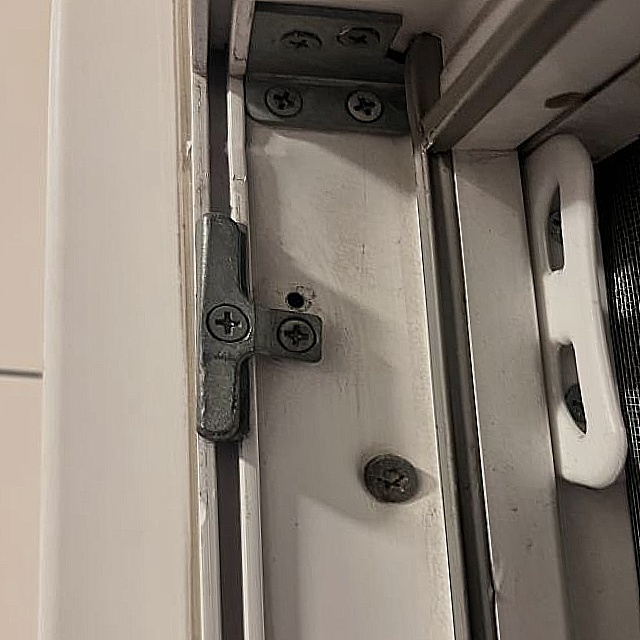phillips: (205, 303, 252, 345), (276, 317, 317, 354), (346, 89, 384, 124), (265, 84, 304, 118), (280, 29, 323, 56), (337, 26, 381, 51)
torx: (362, 453, 421, 505)
